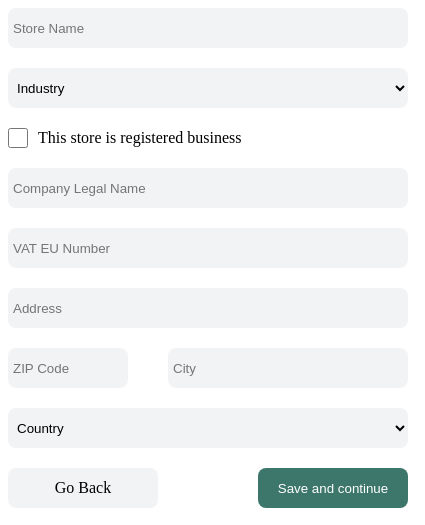
Registration Form Tests › actions tests › should show error if name is too short
Type "1" into the field with test id "store-name".
click(208, 28); type("1")  # box [8,8,408,48]
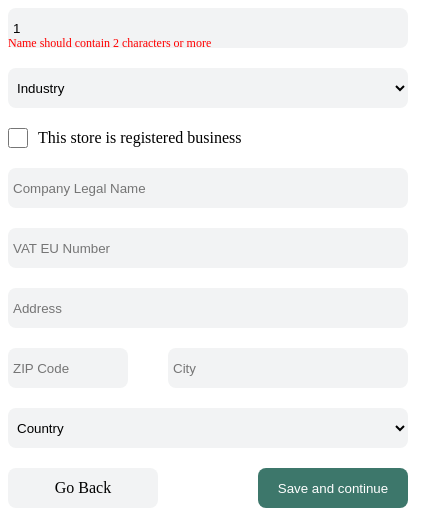
Check: the text "Name should contain 2 characters or more" is shown, box [8,36,211,51]
